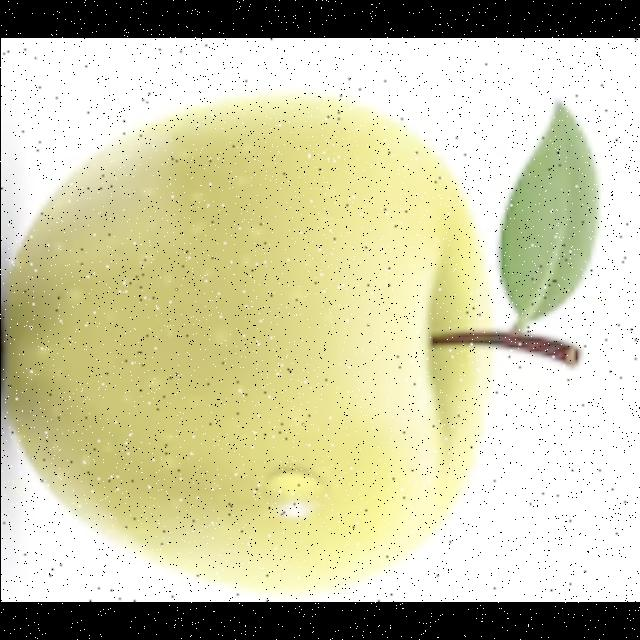Apel Segar: (0, 82, 480, 594)
